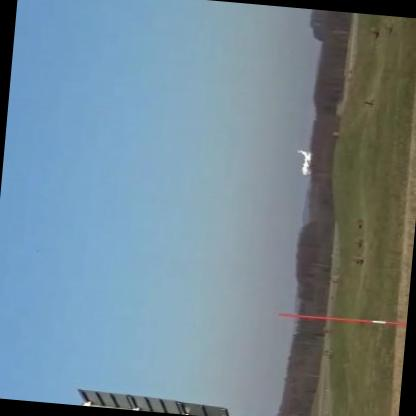plane: (294, 148, 314, 175)
